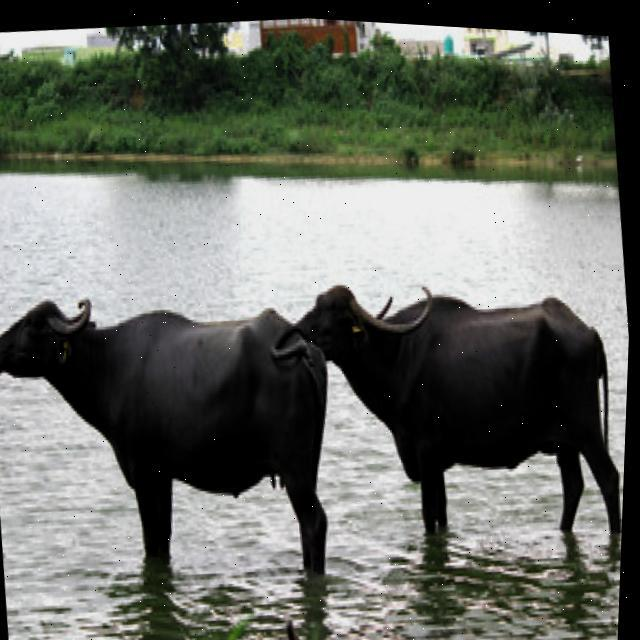Buffalo: (292, 243, 632, 577), (0, 264, 342, 591)
